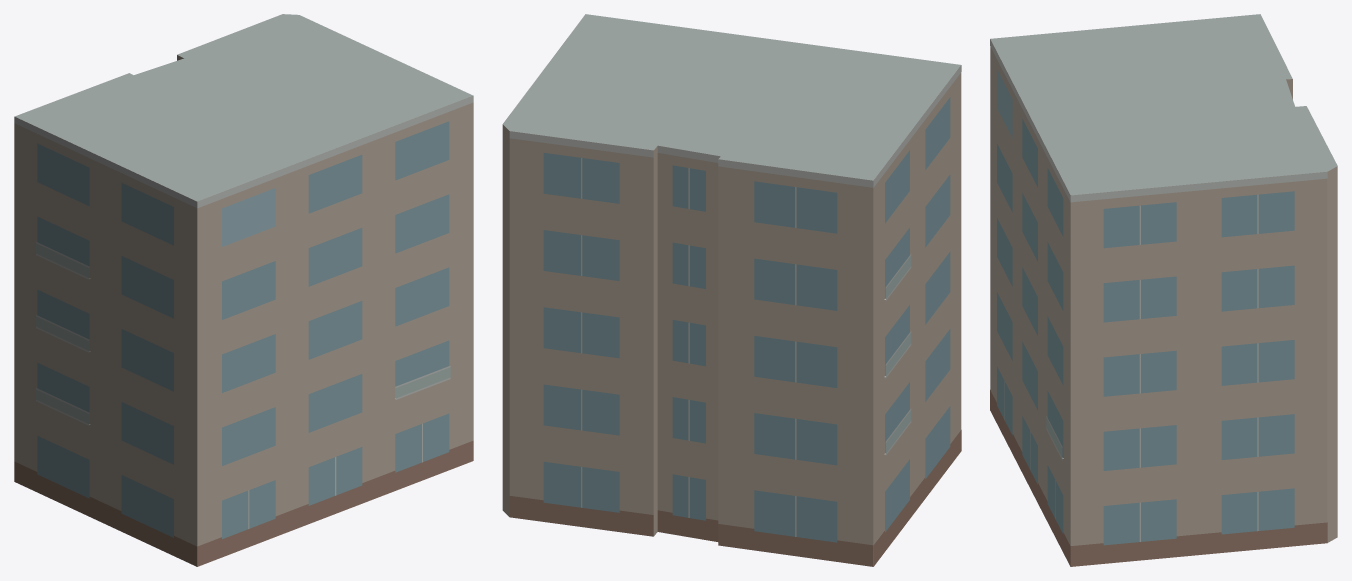
Rendered from survey-upis-32713646.glb.
3 renders of one model, left to right at view 1: azimuth 30°, elevation 25°; view 2: azimuth 150°, elevation 25°; view 3: azimuth 270°, elevation 25°, orthographic. The views are drawn at different scales.
Visible parts, largest first — view 1: survey-upis-32713646.tmp; view 2: survey-upis-32713646.tmp; view 3: survey-upis-32713646.tmp.
Part boxes in pixels (x1,y1,x2,y2): survey-upis-32713646.tmp: (14,14,473,566); survey-upis-32713646.tmp: (502,14,961,566); survey-upis-32713646.tmp: (990,14,1337,566).
Size of the model in its own units: 13.84 by 13.2 by 11.21.
